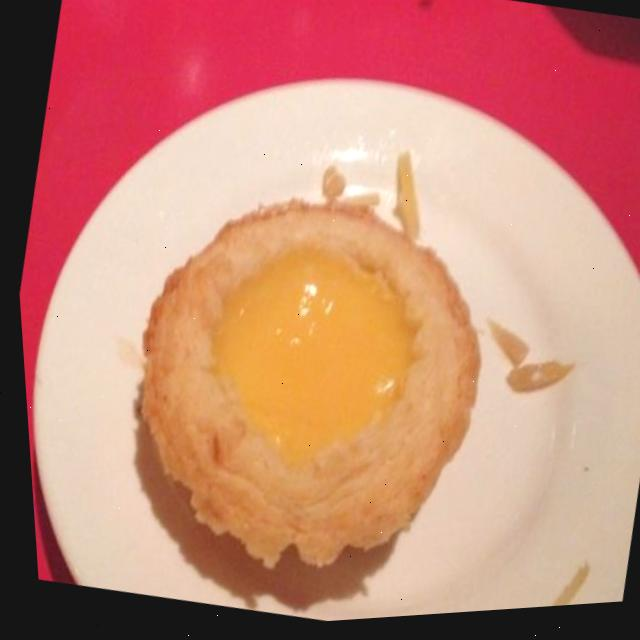炸货点心: (5, 29, 640, 640)
蛋糕甜品: (5, 29, 640, 640)
